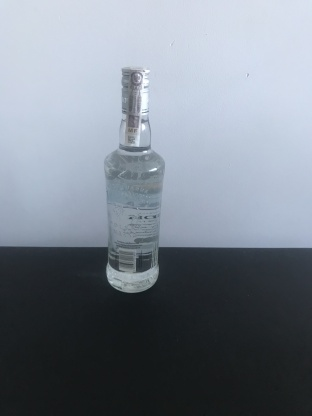nakretka: (118, 62, 153, 118)
